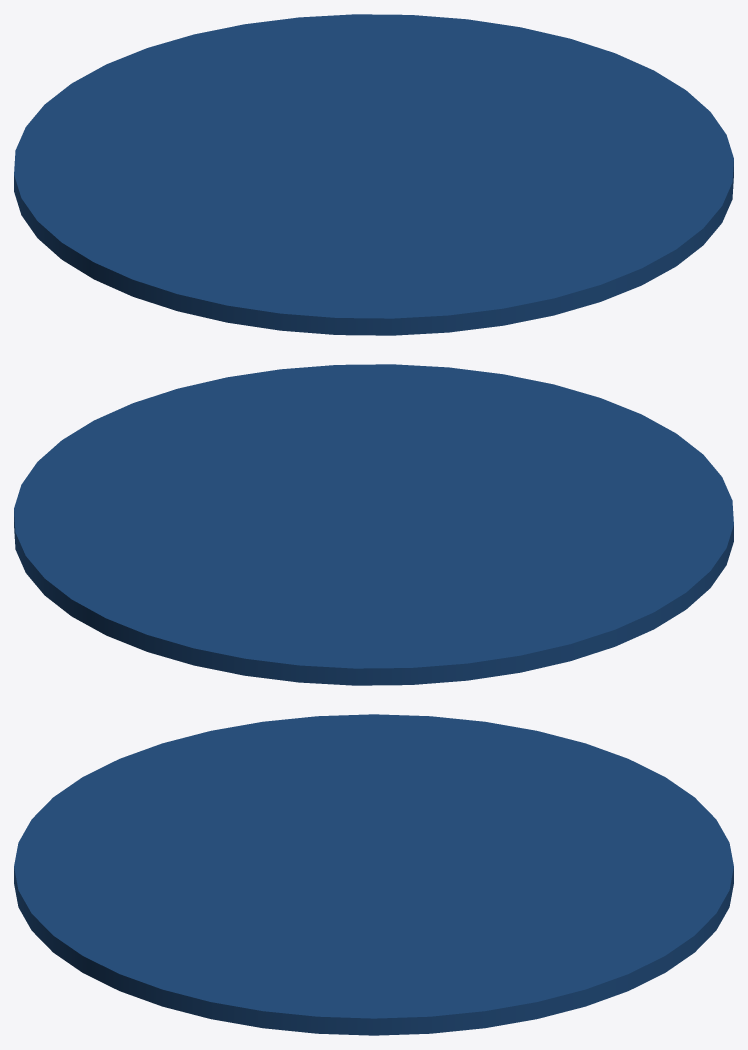
File: paper.glb
3 views of the same model, one above another, from view 1: azimuth 30°, elevation 25°; view 2: azimuth 150°, elevation 25°; view 3: azimuth 270°, elevation 25° (orthographic).
Visible parts, largest first — view 1: ActualTwoMillilitreInkDose; view 2: ActualTwoMillilitreInkDose; view 3: ActualTwoMillilitreInkDose.
Boxes of the visible parts, x1,y1,x2,y2 form: ActualTwoMillilitreInkDose: (14, 14, 733, 335); ActualTwoMillilitreInkDose: (14, 364, 733, 685); ActualTwoMillilitreInkDose: (14, 714, 733, 1035).
Bounding box in the file's own units: 0.046 × 0.0012 × 0.046.
